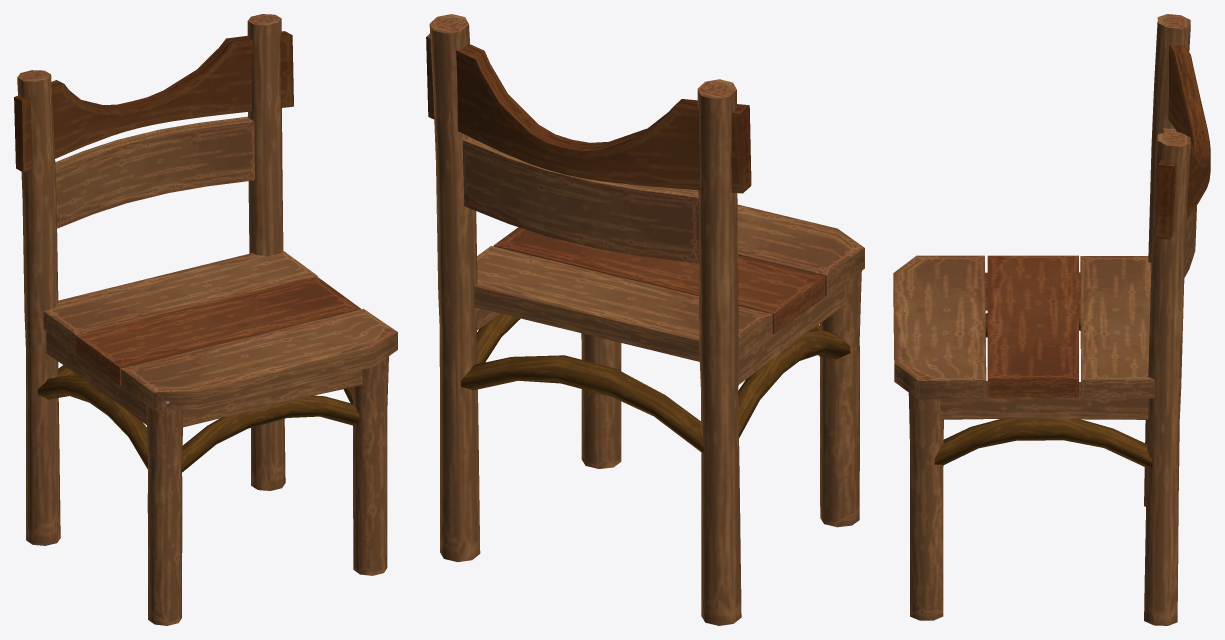
Rendered from Chair_2.gltf.
3 views of the same model, side by side, from view 1: azimuth 30°, elevation 25°; view 2: azimuth 150°, elevation 25°; view 3: azimuth 270°, elevation 25° (orthographic). The views are drawn at different scales.
Parts seen in each view (by area): view 1: Chair_2; view 2: Chair_2; view 3: Chair_2.
Boxes of the visible parts, <box> form: Chair_2: <box>14,14,397,625</box>; Chair_2: <box>426,14,864,625</box>; Chair_2: <box>893,14,1210,625</box>.
Bounding box in the file's own units: 0.6077 × 0.9899 × 0.5894.
Materials: 1 (1 with a texture image).
